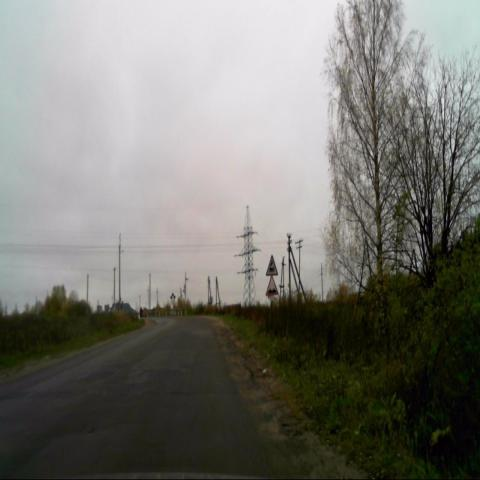1_16: (265, 274, 279, 297)
1_2: (265, 254, 279, 276)
